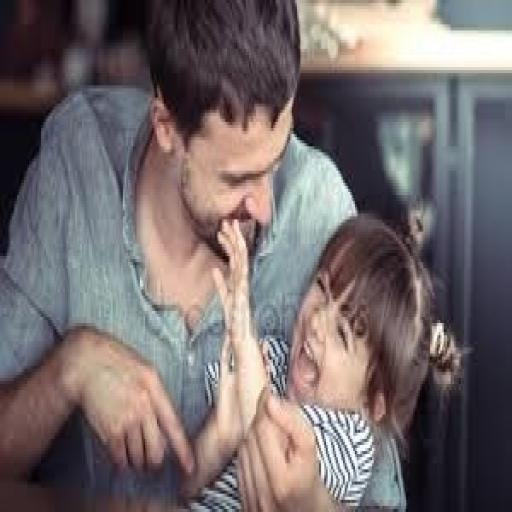hugging: (0, 0, 449, 509), (184, 210, 436, 509)
